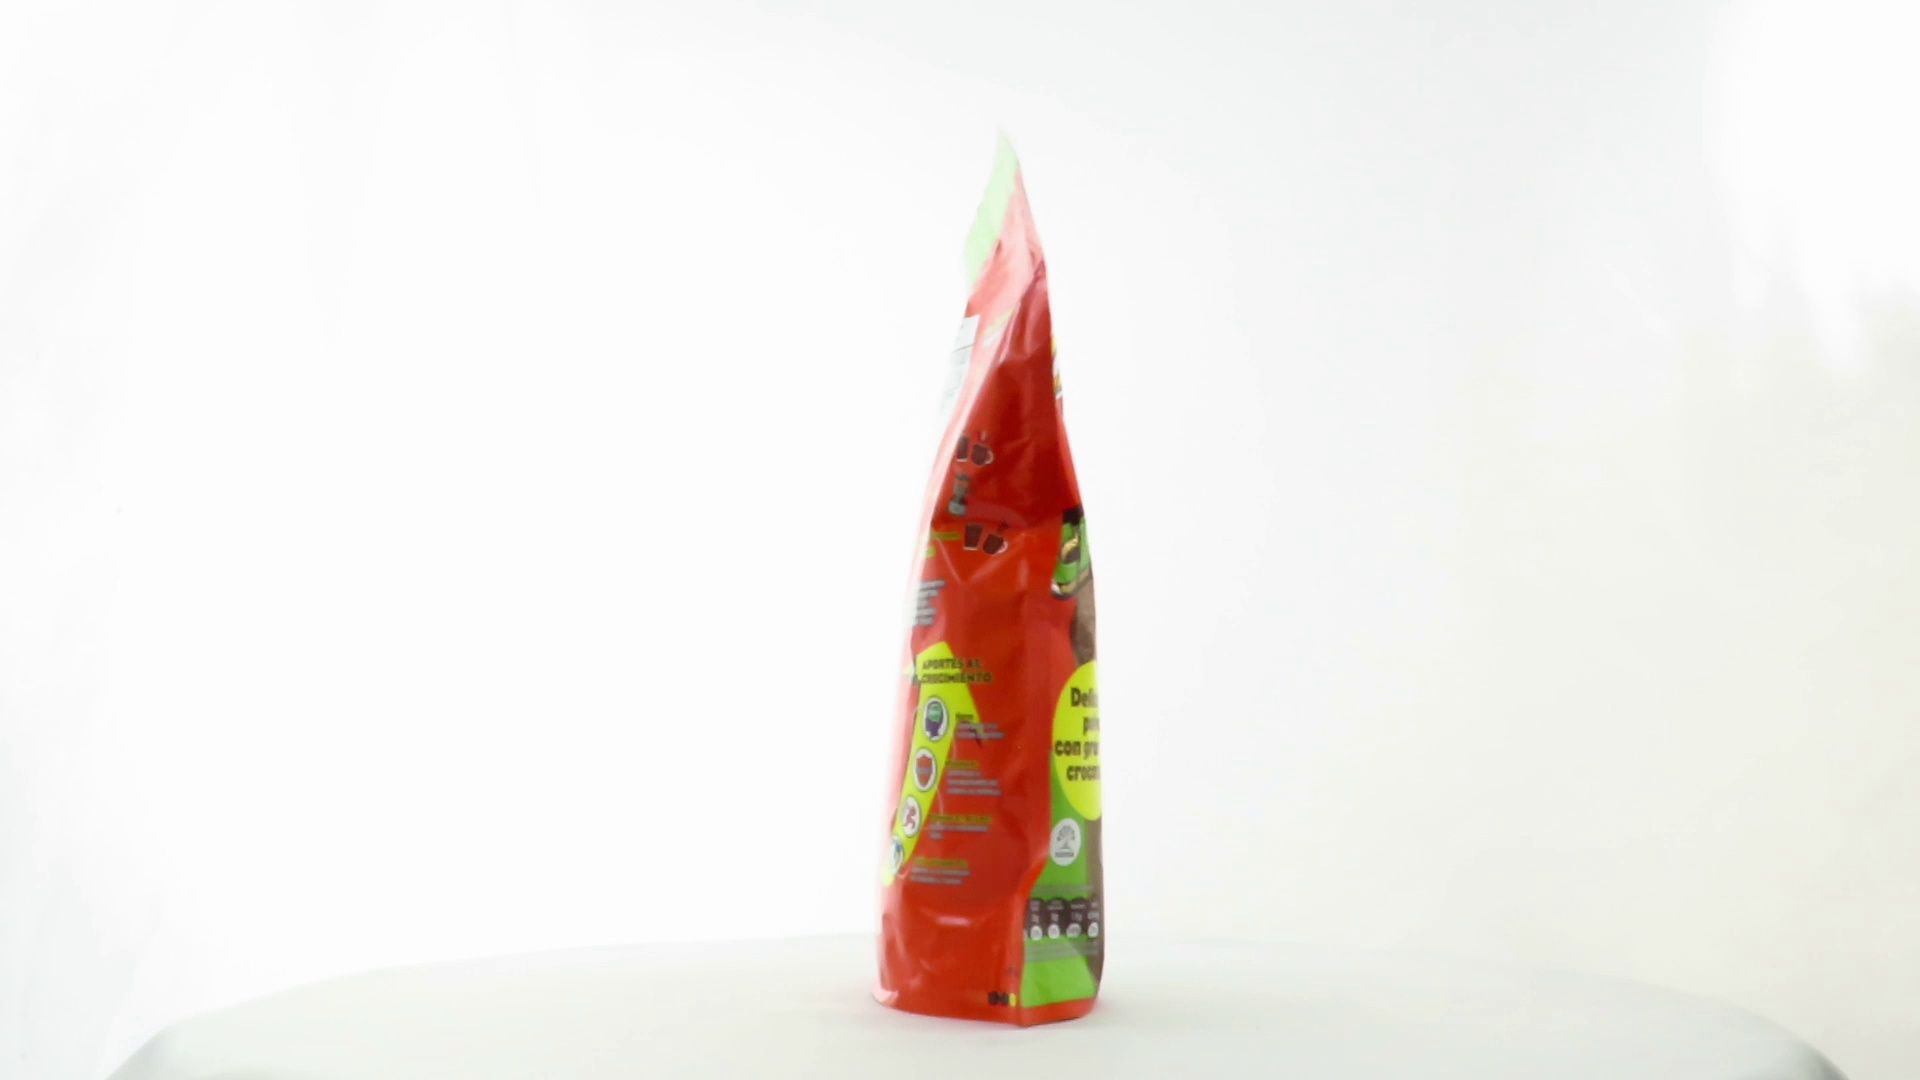COL0170102DYP50000: (870, 131, 1112, 1036)
